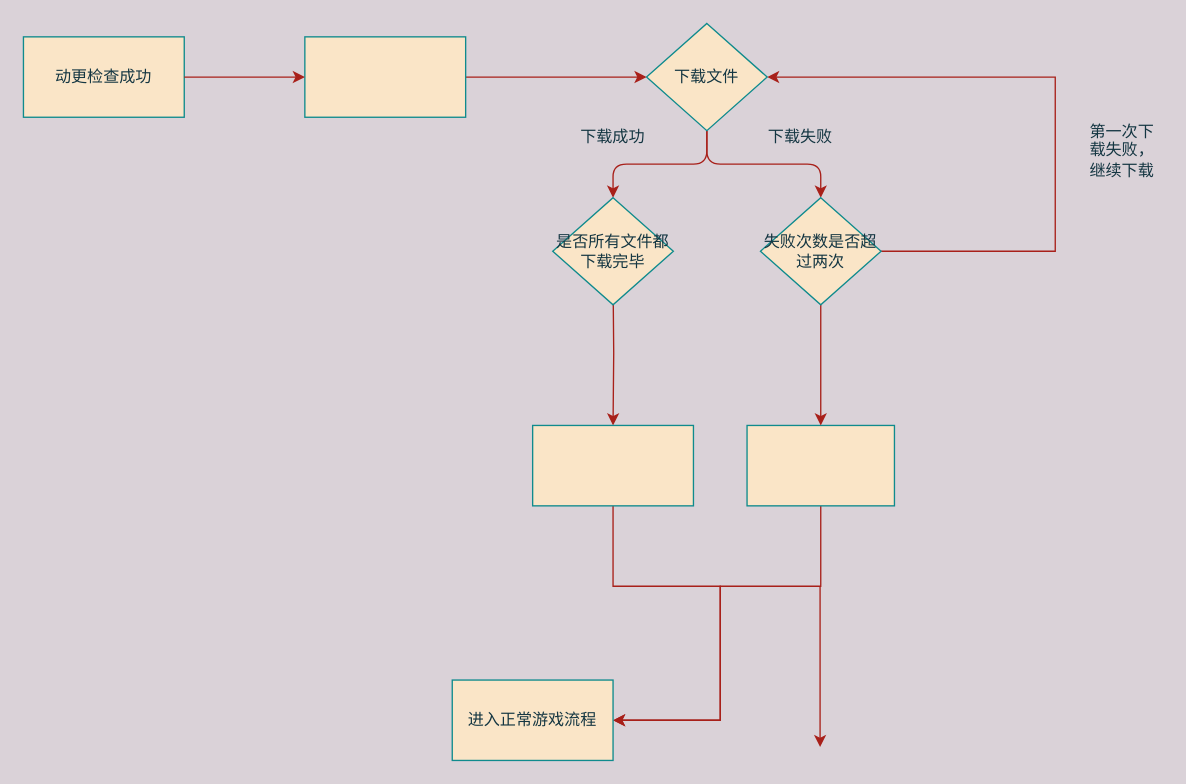
The diagram is 1186 pixels wide and 784 high, and some of its shapes have lost their labels. Here are the shapes that lost their labels. From the top down, the centre of each, then its label:
At pixel 385 76: "生成文件下载列表".
At pixel 612 465: "动更下载成功".
At pixel 820 465: "动更下载失败".
